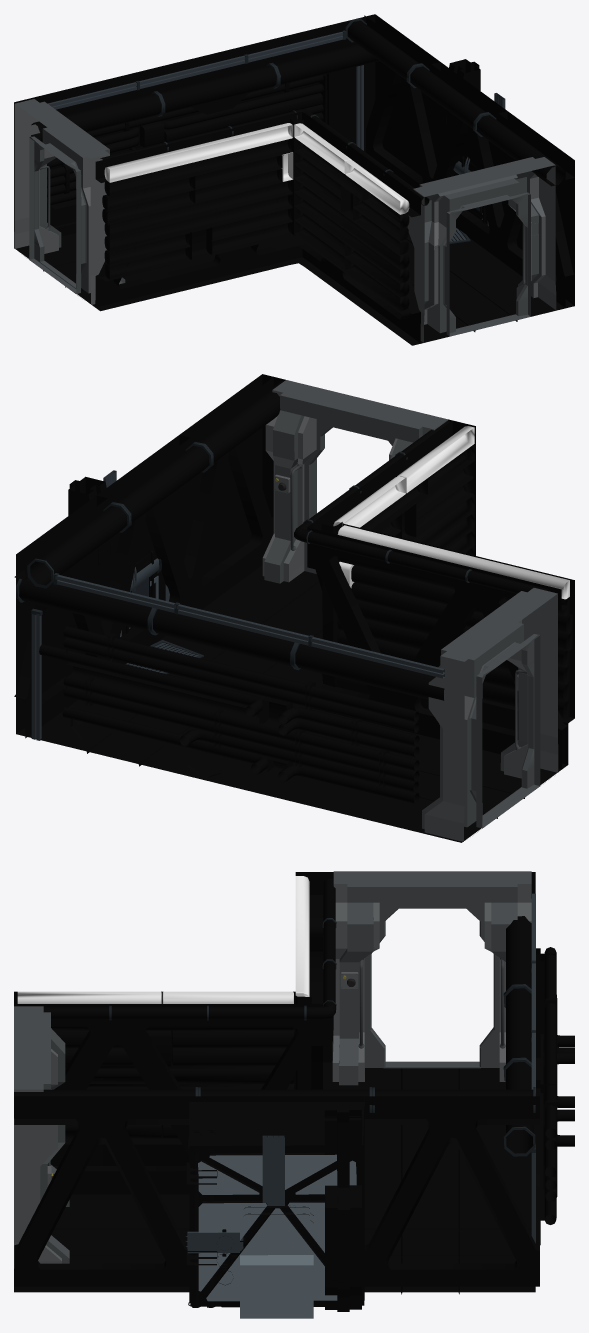
File: ROOMx2L_1.fbx
3 views of the same model, one above another, from view 1: azimuth 30°, elevation 25°; view 2: azimuth 150°, elevation 25°; view 3: azimuth 270°, elevation 25° (orthographic). The views are drawn at different scales.
Visible parts, largest first — view 1: Main.017, ROOMx2L_1, MainTonel.052, MainTonel.050, Plane.019, Plane.015, Plane.020, Cube.063, Plane.017, Plane.018, Plane.016, Cube.062 (+40 smaller); view 2: Main.017, ROOMx2L_1, MainTonel.052, Plane.018, MainTonel.050, Plane.015, Plane.020, Plane.017, Cylinder.034, Plane.019, Cylinder.035, Cylinder.032 (+41 smaller); view 3: Main.017, ROOMx2L_1, OptionAIDKIT.009, Plane.018, Plane.019, Gen.009, Plane.016, MainTonel.052, OptionHIDE.004, MainTonel.050, MainTonel.049, Plane.017 (+18 smaller).
Boxes of the visible parts, x1,y1,x2,y2 form: Main.017: (14, 14, 574, 345); ROOMx2L_1: (14, 99, 556, 342); MainTonel.052: (31, 44, 379, 142); MainTonel.050: (345, 18, 564, 186); Plane.019: (364, 15, 440, 188); Plane.015: (95, 128, 233, 307); Plane.020: (431, 64, 507, 258); Cube.063: (104, 123, 293, 182); Plane.017: (233, 111, 341, 284); Plane.018: (498, 111, 574, 307); Plane.016: (341, 140, 420, 343); Cube.062: (104, 138, 293, 196); Main.017: (16, 374, 574, 842); ROOMx2L_1: (262, 380, 558, 841); MainTonel.052: (16, 578, 444, 700); Plane.018: (179, 377, 273, 609); MainTonel.050: (27, 381, 283, 588); Plane.015: (392, 548, 567, 769); Plane.020: (101, 438, 190, 663); Plane.017: (307, 492, 392, 727); Cylinder.034: (63, 626, 419, 721); Plane.019: (14, 495, 107, 738); Cylinder.035: (63, 637, 419, 732); Cylinder.032: (63, 686, 419, 781); Main.017: (14, 872, 555, 1294); ROOMx2L_1: (14, 871, 531, 1268); OptionAIDKIT.009: (189, 1102, 364, 1307); Plane.018: (14, 1096, 189, 1286); Plane.019: (364, 1096, 539, 1286); Gen.009: (186, 1110, 362, 1311); Plane.016: (14, 1004, 221, 1194); MainTonel.052: (503, 916, 535, 1156); OptionHIDE.004: (240, 1255, 313, 1318); MainTonel.050: (14, 1087, 535, 1118); MainTonel.049: (43, 1001, 335, 1020); Plane.017: (221, 982, 322, 1089).
Bounding box in the file's own units: 7.28 × 2.59 × 6.72.
